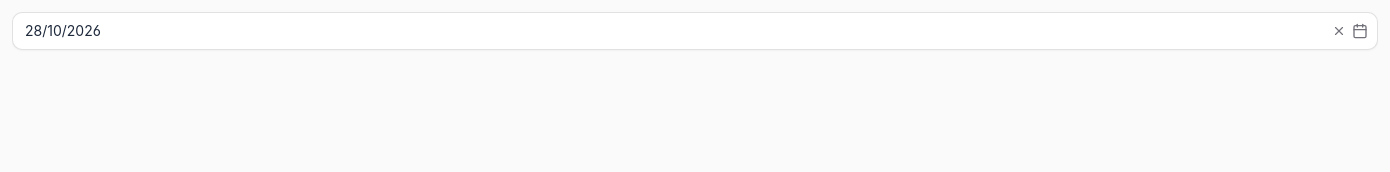
DatePicker — format and validation safeguards › reverts invalid input on blur without corrupting view or value
This screenshot has width=1390, height=172.
Replace the text in the field with "99": (695, 31) 12,12 -> 1378,50
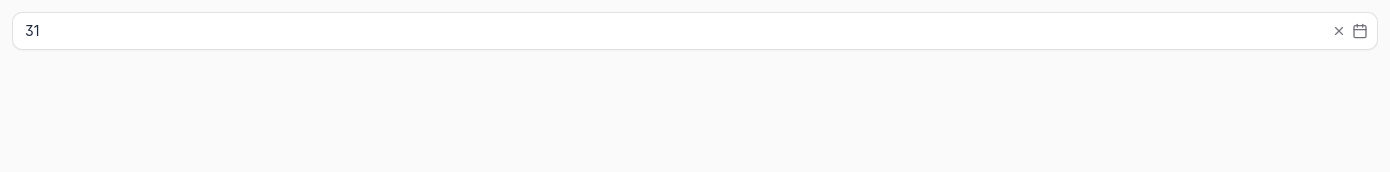
Leave the field, box 12,12 -> 1378,50
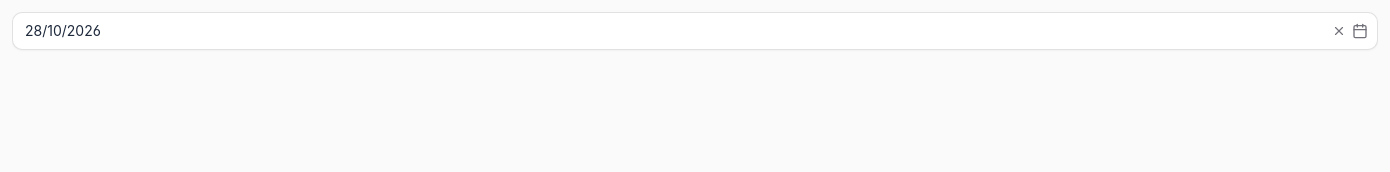
Check: the field holds "28/10/2026", box 12,12 -> 1378,50
